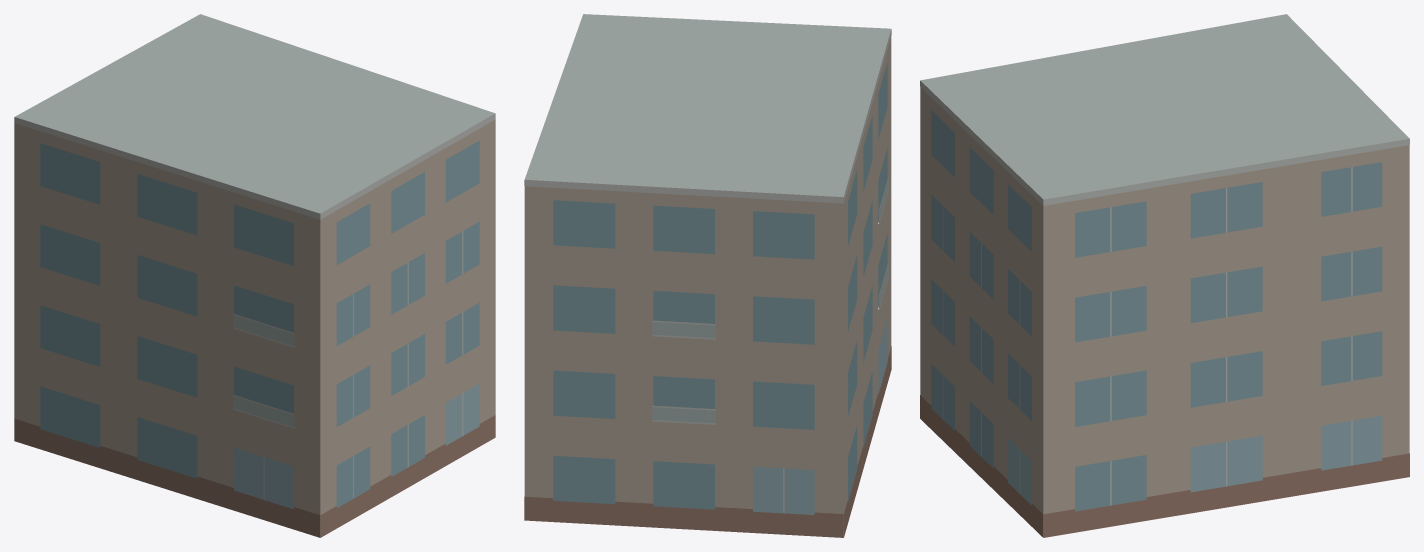
Rendered from survey-upis-32928045.glb.
3 renders of one model, left to right at view 1: azimuth 30°, elevation 25°; view 2: azimuth 150°, elevation 25°; view 3: azimuth 270°, elevation 25°, orthographic. The views are drawn at different scales.
Parts seen in each view (by area): view 1: survey-upis-32928045.tmp; view 2: survey-upis-32928045.tmp; view 3: survey-upis-32928045.tmp.
Part boxes in pixels (x1,y1,x2,y2): survey-upis-32928045.tmp: (14, 14, 495, 537); survey-upis-32928045.tmp: (524, 14, 891, 537); survey-upis-32928045.tmp: (920, 14, 1409, 537).
Bounding box in the file's own units: 15.31 × 13 × 17.06.
